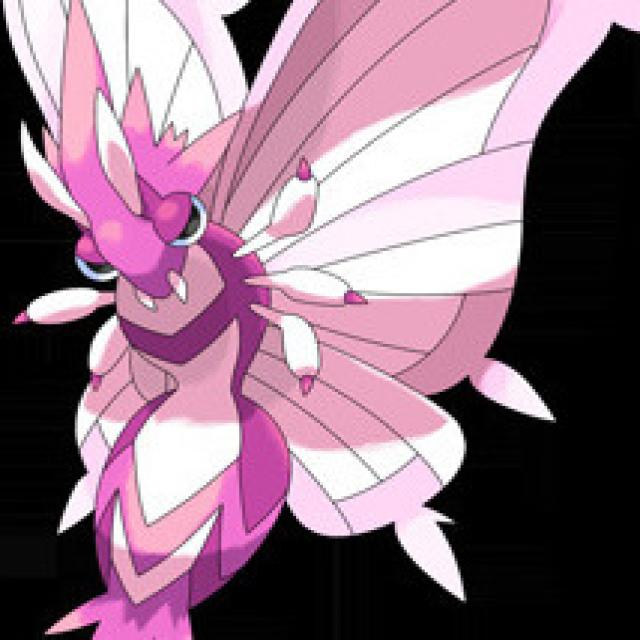Venomoth: (0, 0, 467, 601)
